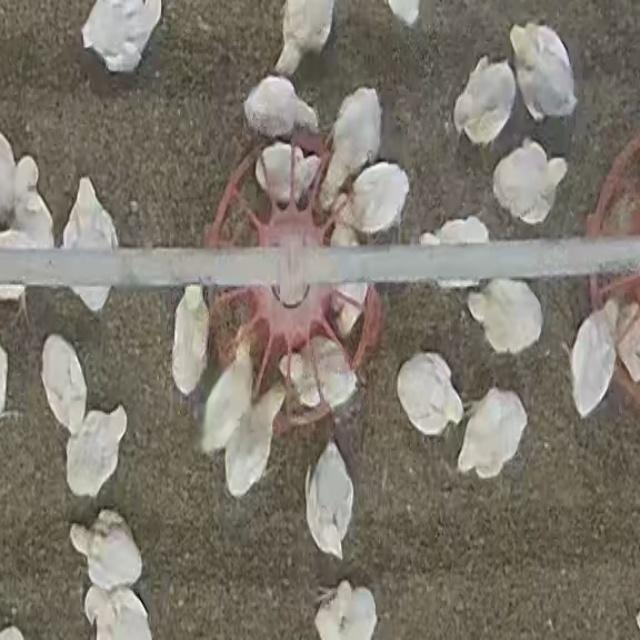chicken: (316, 84, 382, 215), (61, 179, 119, 317), (222, 386, 285, 500), (511, 19, 578, 121), (280, 332, 358, 418), (439, 63, 518, 146), (304, 439, 355, 563), (454, 390, 525, 479), (498, 138, 570, 225), (199, 340, 253, 455), (575, 298, 625, 420), (70, 511, 144, 592), (1, 131, 52, 248), (64, 403, 126, 499), (82, 0, 162, 74), (470, 277, 541, 359), (242, 74, 320, 144), (400, 351, 461, 439), (340, 160, 410, 236), (252, 140, 321, 213), (40, 332, 87, 433), (274, 0, 336, 76), (170, 286, 208, 398), (418, 222, 485, 285), (84, 584, 155, 639), (314, 581, 377, 640)
